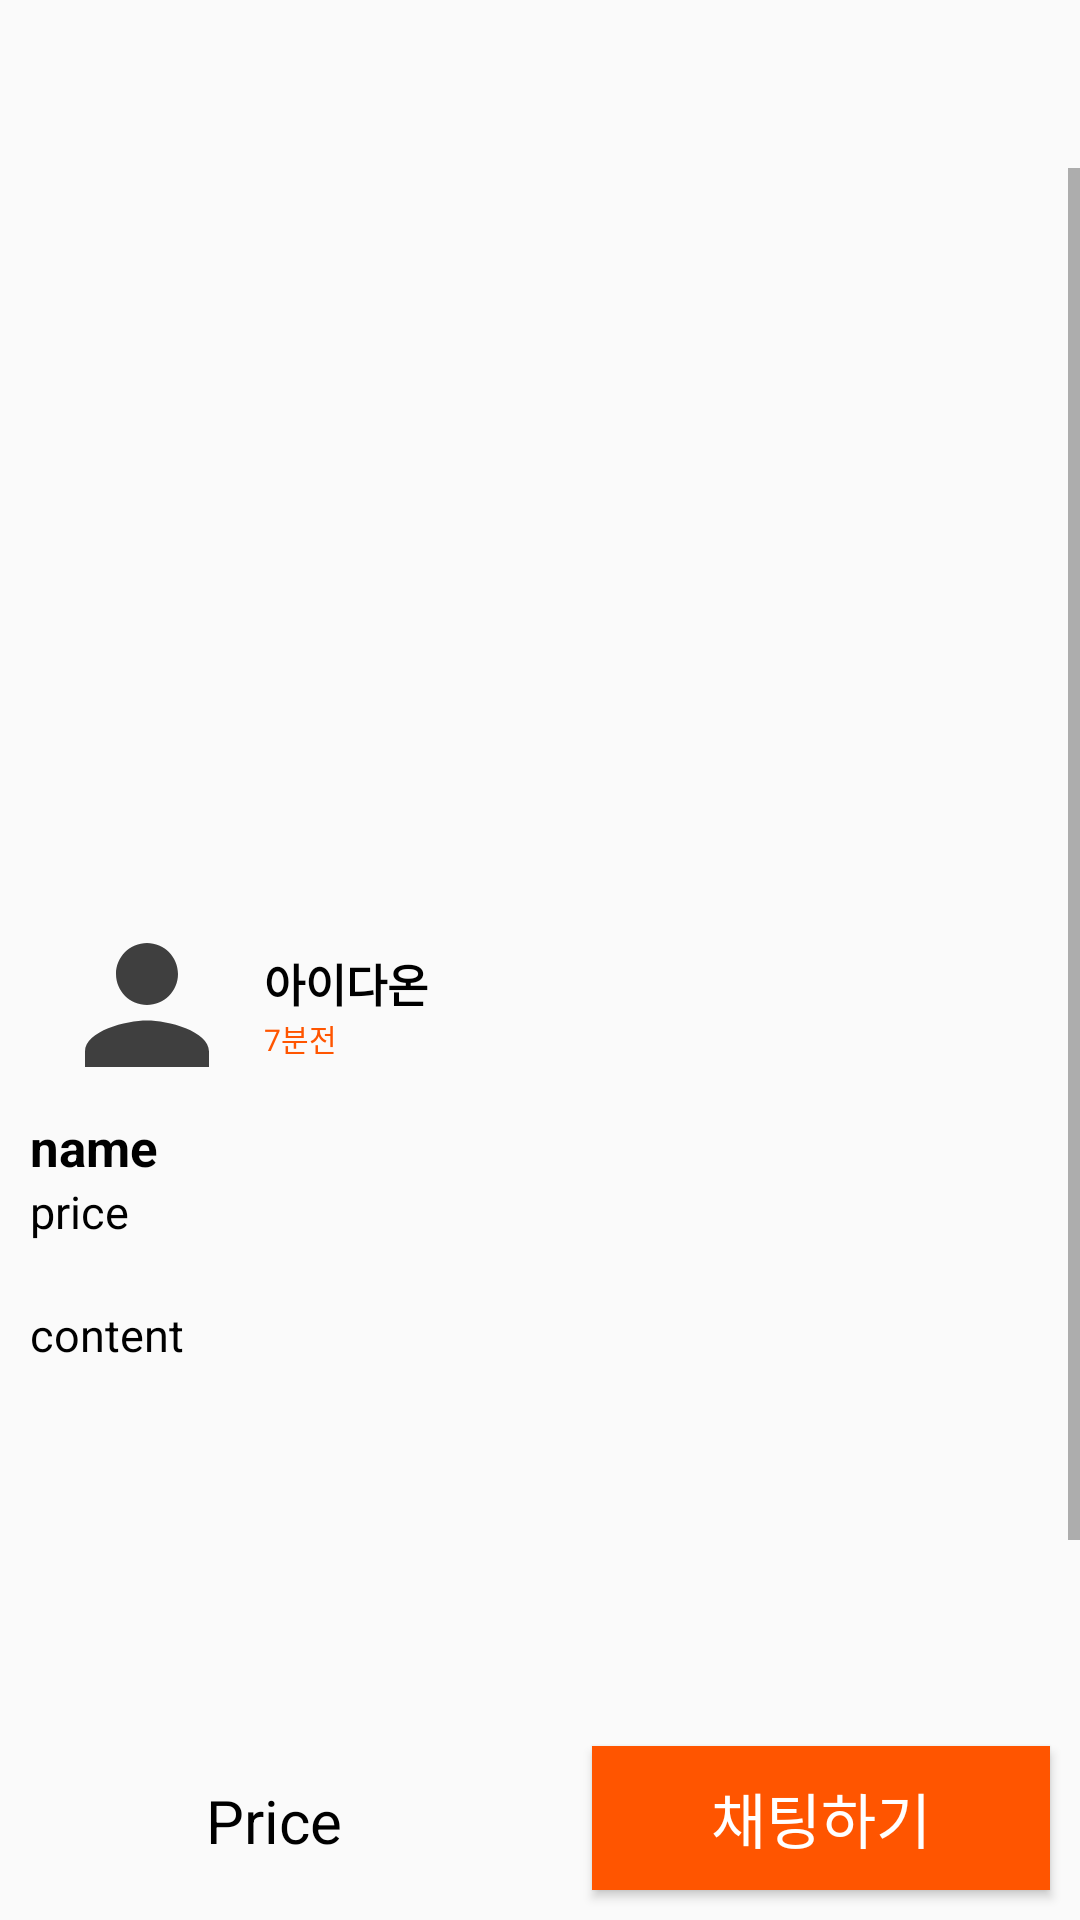

Named icons in this screenshot (1080px x 1920px) and their centers, point (x, y):
person: point (147, 1005)
